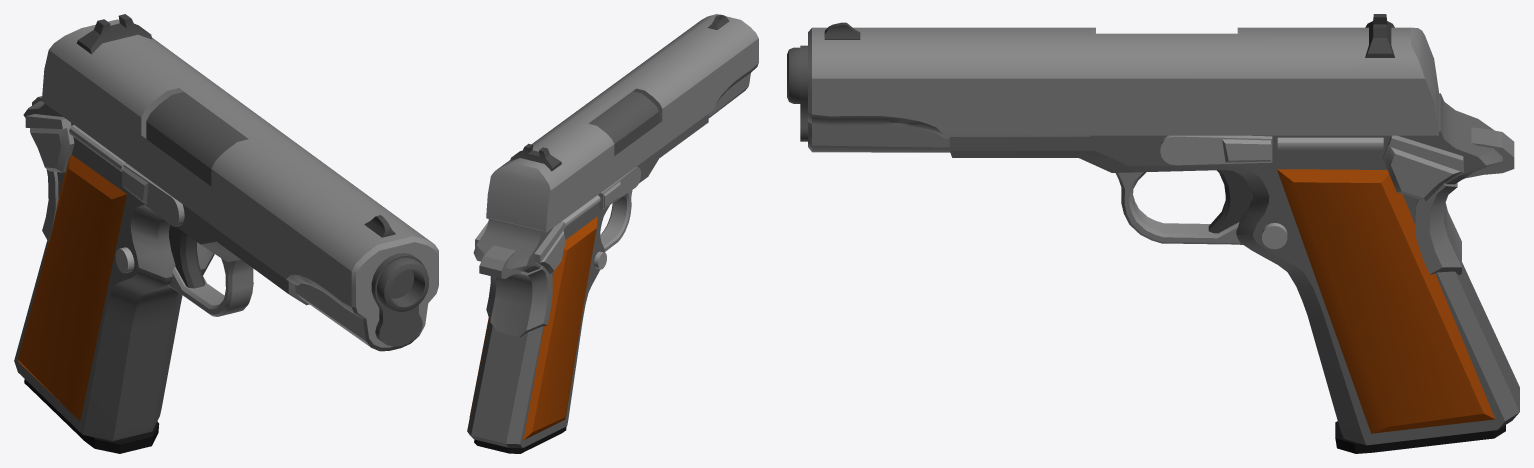
The model's file is Pistol.fbx.
The picture shows the model from 3 angles, left to right: view 1: azimuth 30°, elevation 25°; view 2: azimuth 150°, elevation 25°; view 3: azimuth 270°, elevation 25°; orthographic projection. The views are drawn at different scales.
Visible parts, largest first — view 1: Pistol; view 2: Pistol; view 3: Pistol.
Boxes of the visible parts, x1,y1,x2,y2 form: Pistol: (14,14,438,453); Pistol: (467,14,758,453); Pistol: (787,14,1519,453).
Size of the model in its own units: 0.1096 by 0.4511 by 0.7141.
